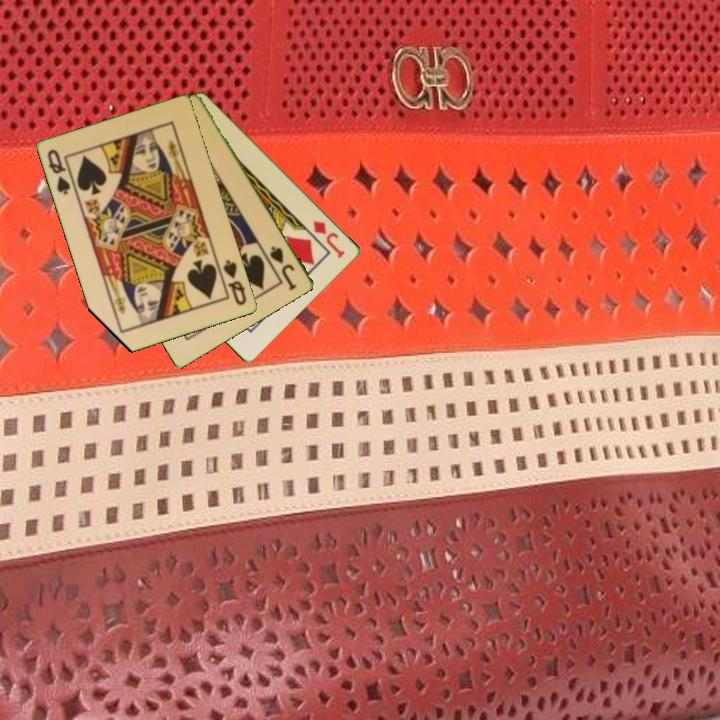Jd: (310, 217, 348, 261)
Js: (266, 243, 300, 293)
Qs: (44, 146, 78, 198), (220, 256, 249, 309)
